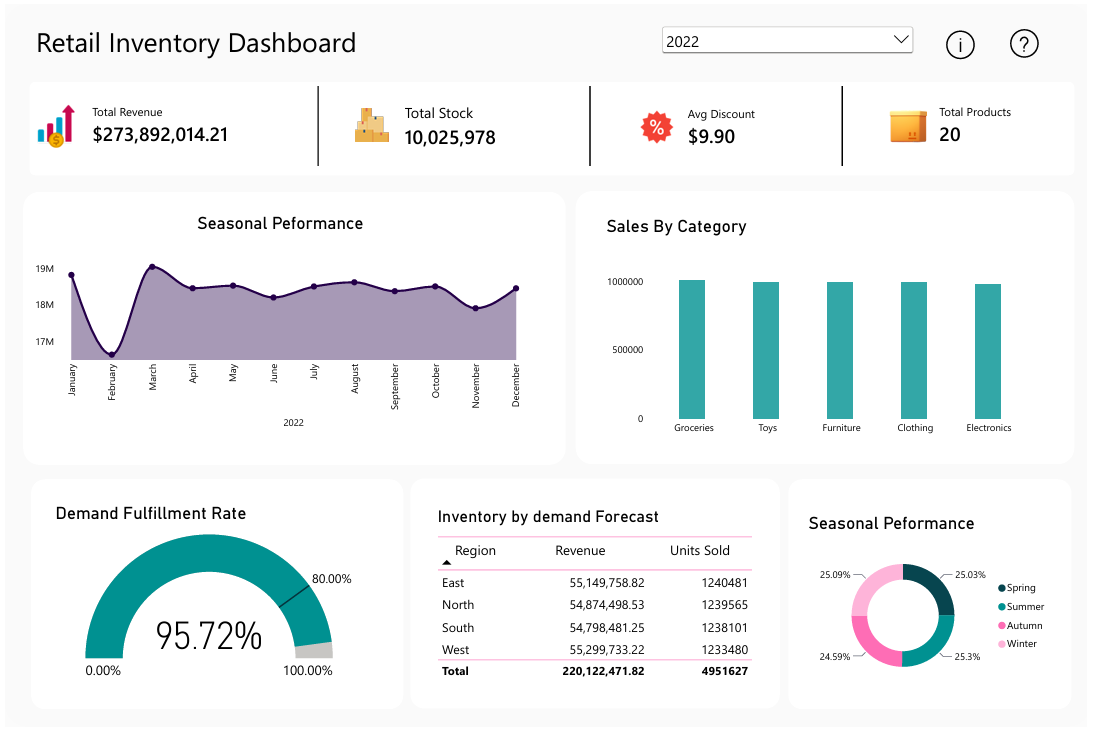

The dashboard page shown, as its layout file describes it:
{"tool":"powerbi","page":{"name":"Page 1","canvas":[1280,720],"ordinal":0},"visuals":[{"type":"textbox","box":[10.3,12,726,79.1],"z":0},{"type":"cardVisual","title":"Total Units Sold","fields":{"Data":["retail_inventory_cleaned.Total Units Sold"]},"box":[515.8,104.3,189.6,110.2],"z":1000,"group":"g6"},{"type":"cardVisual","title":"Total Revenue","fields":{"Data":["retail_inventory_cleaned.Total Revenue"]},"box":[18.9,108.7,261.7,108.7],"z":1000,"group":"g1"},{"type":"cardVisual","title":"Avg Discount","fields":{"Data":["retail_inventory_cleaned.Avg Discount"]},"box":[1132,108.4,141.1,108.4],"z":2000,"group":"g3"},{"type":"cardVisual","title":"Demand Fulfillment Rate","fields":{"Data":["retail_inventory_cleaned.Damand Fulfillment Rate"]},"box":[717.5,108.4,225.4,108.4],"z":3000,"group":"g5"},{"type":"cardVisual","title":"Total Products","fields":{"Data":["retail_inventory_cleaned.Total Products"]},"box":[963.9,108.7,152.8,108.7],"z":4000,"group":"g4"},{"type":"cardVisual","title":"Total Stock","fields":{"Data":["retail_inventory_cleaned.Total Stock"]},"box":[289.5,108.7,207.2,108.7],"z":5000,"group":"g2"},{"type":"pieChart","title":"Seasonal Peformance","fields":{"Category":["retail_inventory_cleaned.Seasonality"],"Y":["Sum(retail_inventory_cleaned.Revenue)"]},"box":[328.9,530.6,553.5,175.9],"z":6000},{"type":"clusteredBarChart","title":"Sales By Category","fields":{"Category":["retail_inventory_cleaned.Category"],"Y":["Sum(retail_inventory_cleaned.Units Sold)"]},"box":[327.5,231.7,554.9,287.5],"z":7000},{"type":"slicer","title":"Sales By Category","fields":{"Values":["retail_inventory_cleaned.Holiday/Promotion"]},"box":[760.4,12,244.3,79.1],"z":8000},{"type":"image","box":[21.9,112,117.6,50],"z":8007,"group":"g1"},{"type":"slicer","title":"Sales By Category","fields":{"Values":["retail_inventory_cleaned.Weather Condition"]},"box":[1039.7,11.4,234.5,80.1],"z":9000},{"type":"tableEx","title":"Inventory by demand Forecast","fields":{"Values":["retail_inventory_cleaned.Region","Sum(retail_inventory_cleaned.Revenue)","Sum(retail_inventory_cleaned.Units Sold)"]},"box":[10,231.7,310.3,175.9],"z":10000},{"type":"lineChart","title":"Seasonal Peformance","fields":{"Category":["retail_inventory_cleaned.Date.Variation.Date Hierarchy.Year","retail_inventory_cleaned.Date.Variation.Date Hierarchy.Month"],"Y":["Sum(retail_inventory_cleaned.Revenue)"]},"box":[898.1,231.7,376.1,474.8],"z":11000},{"type":"clusteredBarChart","title":"Store Inventory Level","fields":{"Y":["Sum(retail_inventory_cleaned.Units Sold)"],"Category":["retail_inventory_cleaned.Store ID"]},"box":[10,419,310.3,287.5],"z":12000},{"type":"image","box":[289.5,110.2,104.3,50],"z":13000,"group":"g2"},{"type":"group","id":"g1","title":"Group 1","box":[18.9,108.7,261.7,108.7],"z":14000},{"type":"image","box":[515.8,105.8,54.4,54.4],"z":15000,"group":"g6"},{"type":"image","box":[717.1,135.2,67.6,82.3],"z":16000,"group":"g5"},{"type":"image","box":[963.9,135.1,67.6,82.3],"z":17000,"group":"g4"},{"type":"image","box":[1131.4,135.2,51.4,79.3],"z":18000,"group":"g3"},{"type":"group","id":"g2","title":"Group 2","box":[289.5,108.7,207.2,108.7],"z":18001},{"type":"group","id":"g3","title":"Group 3","box":[1131.4,108.4,141.7,108.4],"z":18002},{"type":"group","id":"g4","title":"Group 4","box":[963.9,108.7,152.8,108.7],"z":18003},{"type":"group","id":"g5","title":"Group 5","box":[717.1,108.4,225.7,109.1],"z":18004},{"type":"group","id":"g6","title":"Group 6","box":[515.8,104.3,189.6,110.2],"z":18005}]}

Visuals, with their boxes on the page's 1280x720 design canvas (x1, y1, x2, y2). These are canvas units, not pixel positions in the 1093x735 screenshot, which may show the page scaled, cropped or inside an application window:
textbox: (10,12,736,91)
"Total Units Sold" cardVisual: (516,104,705,214)
"Total Revenue" cardVisual: (19,109,281,217)
"Avg Discount" cardVisual: (1132,108,1273,217)
"Demand Fulfillment Rate" cardVisual: (718,108,943,217)
"Total Products" cardVisual: (964,109,1117,217)
"Total Stock" cardVisual: (290,109,497,217)
"Seasonal Peformance" pieChart: (329,531,882,706)
"Sales By Category" clusteredBarChart: (328,232,882,519)
"Sales By Category" slicer: (760,12,1005,91)
image: (22,112,140,162)
"Sales By Category" slicer: (1040,11,1274,92)
"Inventory by demand Forecast" tableEx: (10,232,320,408)
"Seasonal Peformance" lineChart: (898,232,1274,706)
"Store Inventory Level" clusteredBarChart: (10,419,320,706)
image: (290,110,394,160)
"Group 1" group: (19,109,281,217)
image: (516,106,570,160)
image: (717,135,785,218)
image: (964,135,1032,217)
image: (1131,135,1183,214)
"Group 2" group: (290,109,497,217)
"Group 3" group: (1131,108,1273,217)
"Group 4" group: (964,109,1117,217)
"Group 5" group: (717,108,943,218)
"Group 6" group: (516,104,705,214)
